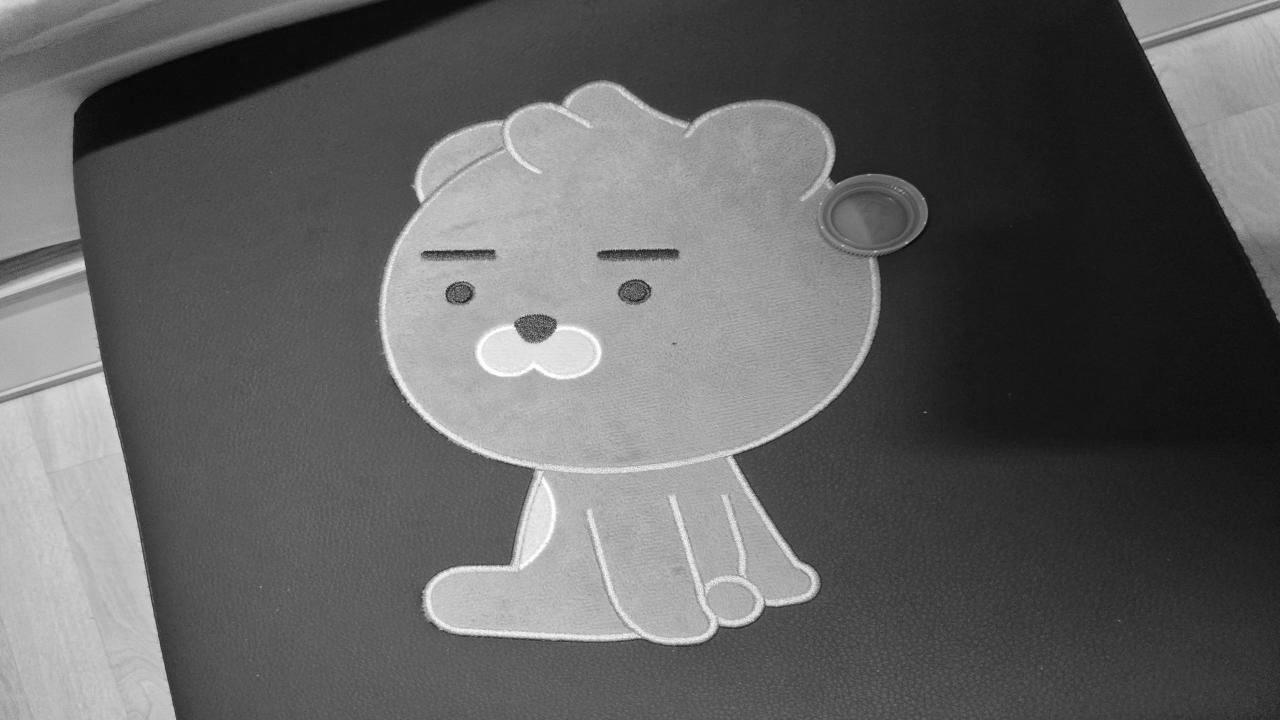bottle_cap: (812, 171, 934, 260)
